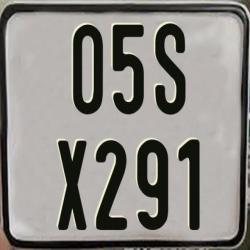0: (71, 23, 105, 113)
1: (178, 138, 199, 229)
2: (94, 140, 126, 233)
5: (111, 24, 145, 116)
9: (137, 138, 169, 229)
S: (156, 22, 186, 114)
X: (57, 139, 88, 228)
